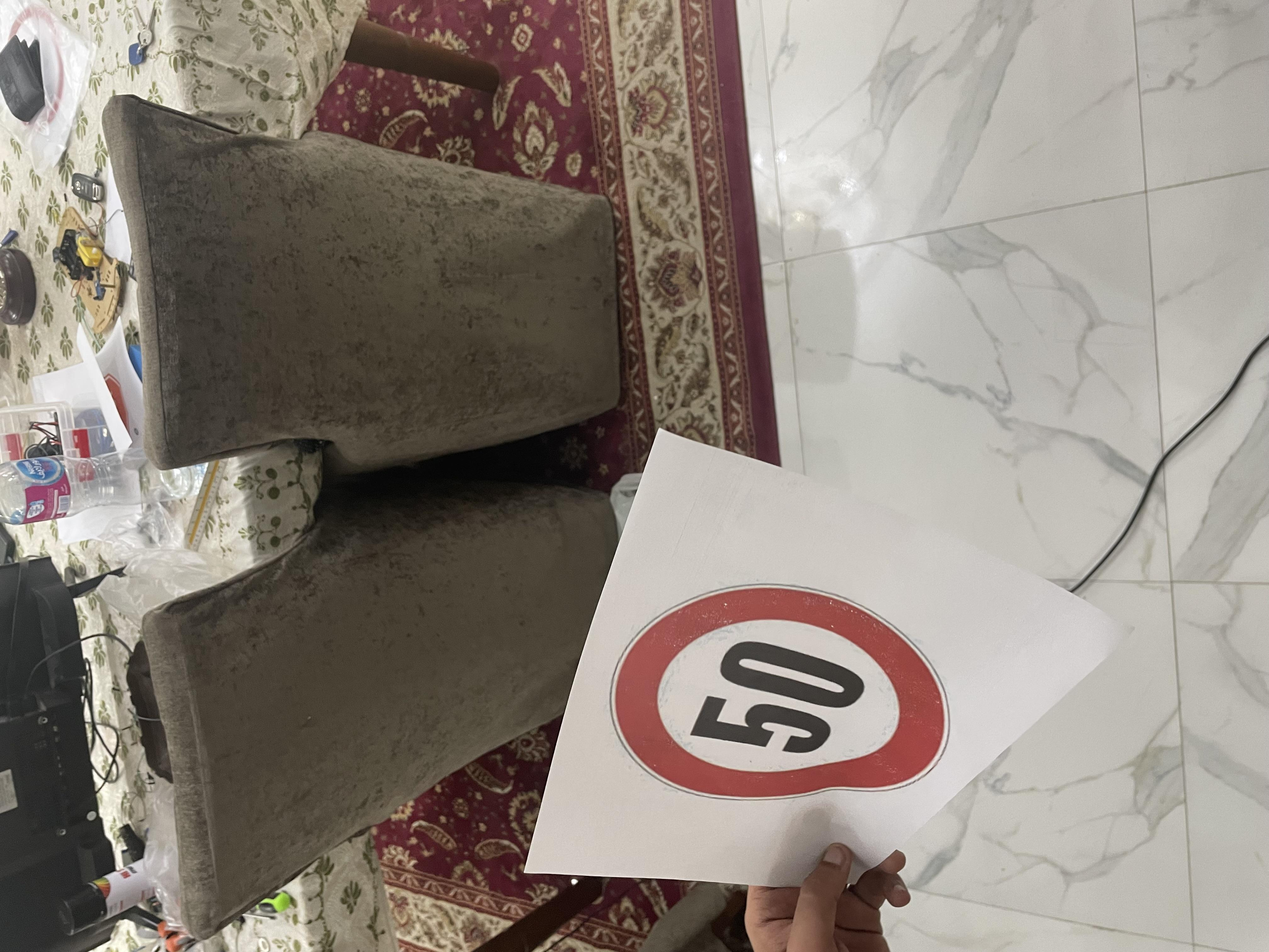50-Speed: (181, 466, 499, 715)
